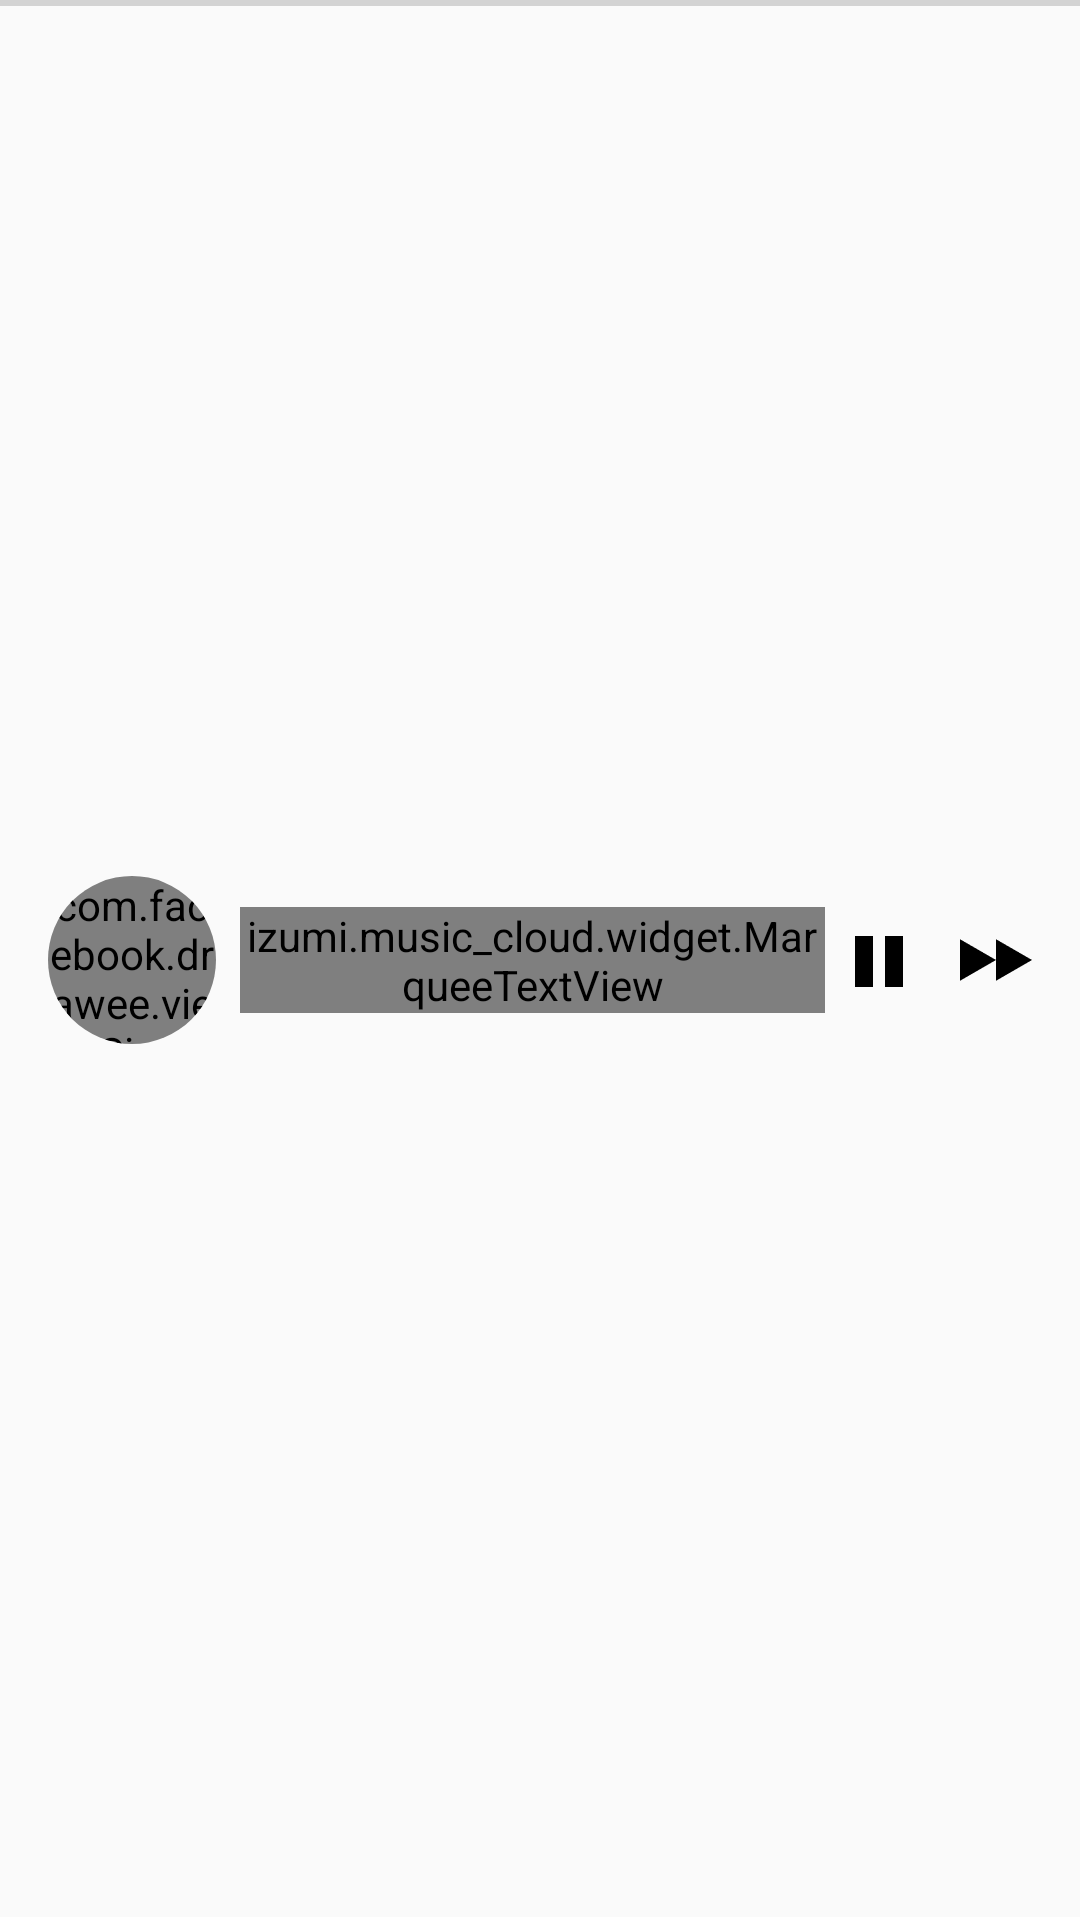

Locate icon controls on the screen. Image size 1080x1920, boxes as (x1, y1, x2, y2).
play next song: (960, 939, 1032, 981)
